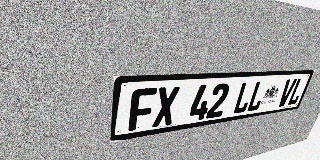2: (206, 83, 231, 119)
4: (188, 84, 214, 122)
F: (128, 88, 157, 131)
L: (232, 81, 256, 114), (246, 80, 269, 112), (286, 78, 307, 106)
V: (276, 79, 297, 107)
X: (152, 86, 180, 127)
